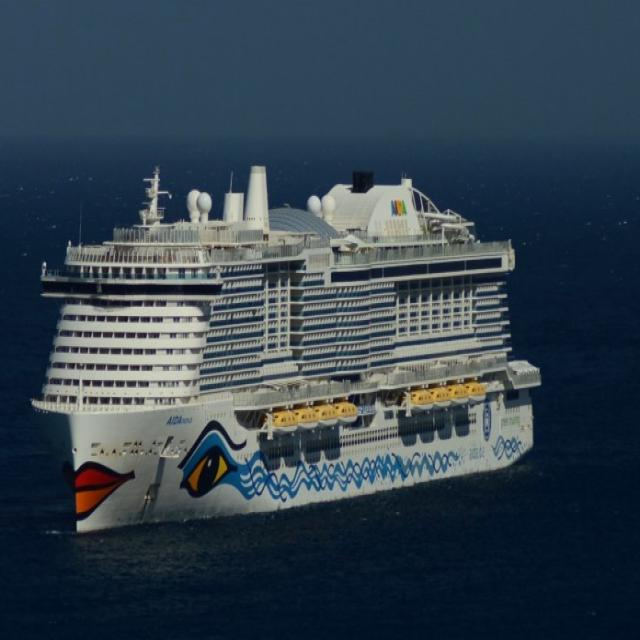cruises: (29, 153, 546, 546)
